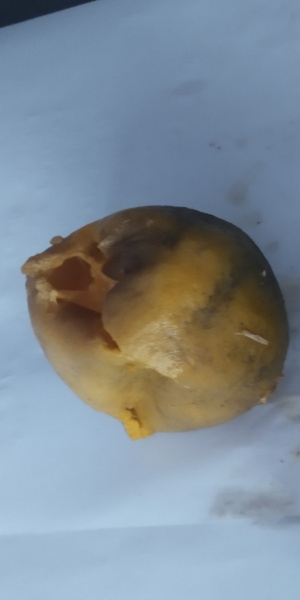BAD: (23, 209, 290, 430)
